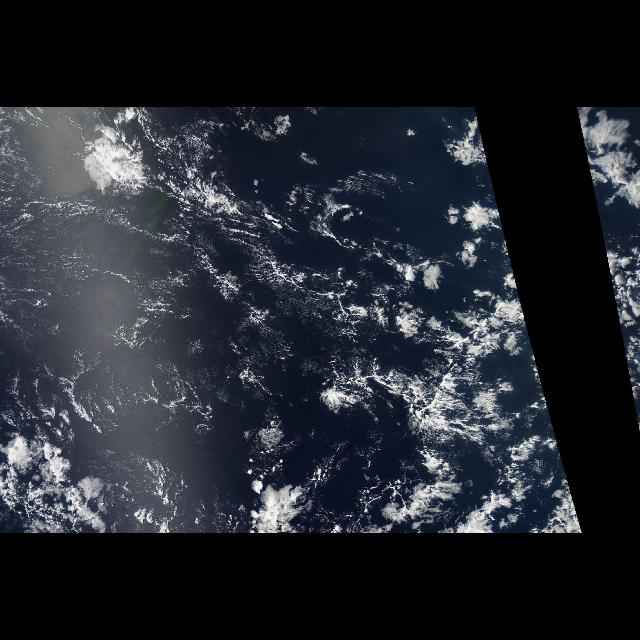Sugar: (1, 192, 295, 384)
